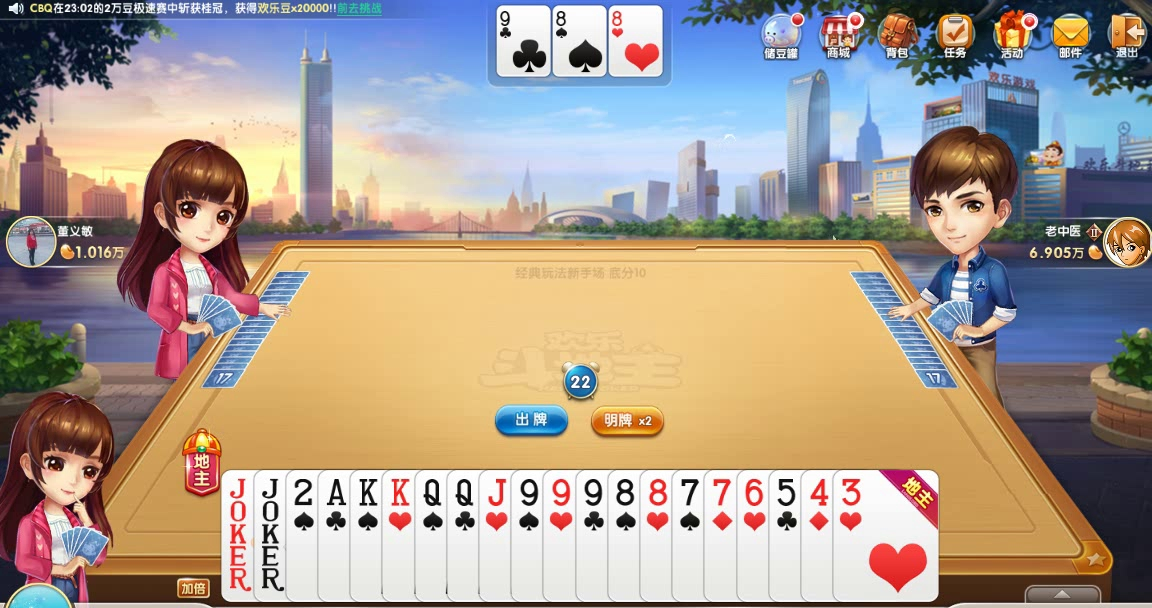11~3: (477, 469, 585, 602)
12~2: (447, 469, 555, 602)
12~4: (415, 468, 523, 601)
13~3: (382, 468, 490, 601)
13~4: (350, 468, 458, 601)
14~2: (318, 468, 426, 601)
15~4: (286, 468, 394, 601)
17~3: (254, 468, 362, 601)
18~4: (220, 468, 328, 601)
3~3: (832, 469, 940, 602)
4~1: (799, 469, 907, 602)
5~2: (768, 469, 876, 602)
6~3: (737, 469, 845, 602)
7~1: (704, 469, 812, 602)
7~4: (671, 469, 779, 602)
8~3: (640, 469, 748, 602), (607, 5, 663, 76)
8~4: (608, 469, 716, 602), (550, 6, 606, 77)
9~2: (576, 469, 684, 602), (495, 6, 551, 77)
9~3: (543, 469, 651, 602)
9~4: (510, 469, 618, 602)
